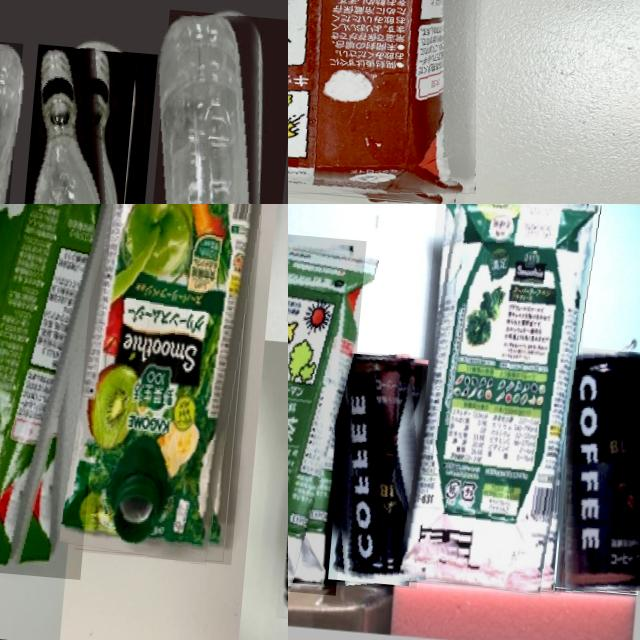Aluminium Foil: (403, 204, 594, 594), (65, 204, 271, 564), (0, 204, 122, 578), (288, 0, 502, 204), (288, 227, 365, 594)
Can: (318, 348, 436, 588), (548, 345, 640, 596)
Transparent Plastic Bottle: (116, 8, 288, 204), (0, 43, 156, 204)
